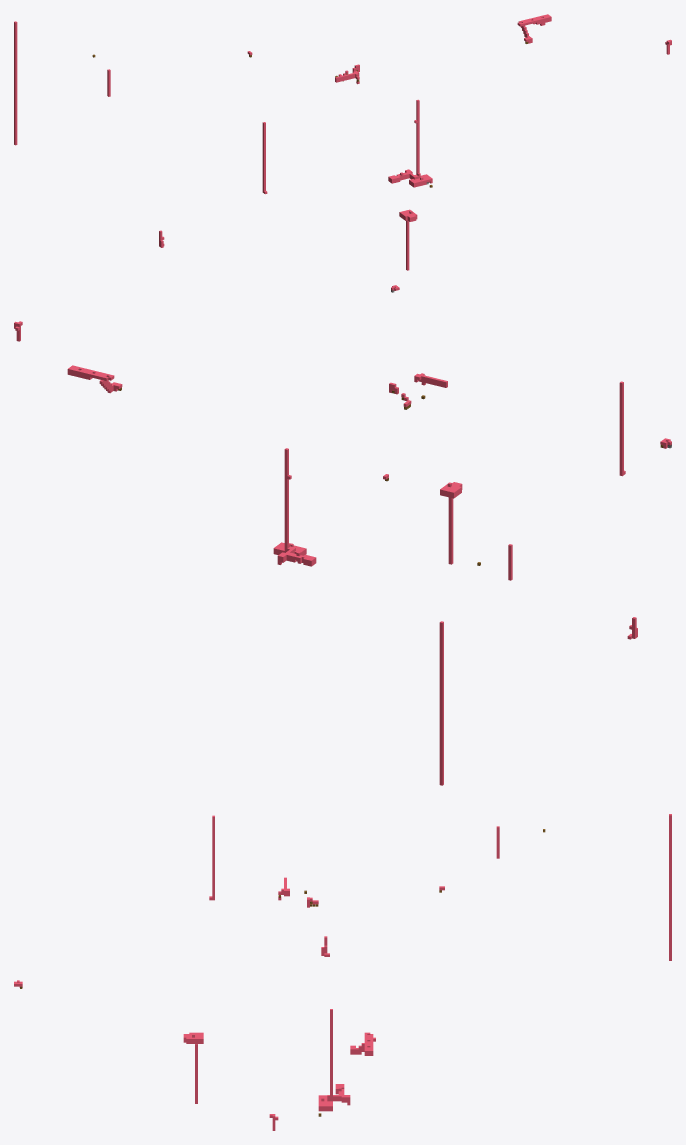
File: secrets.glb
The picture shows the model from 3 angles, top to bottom: view 1: azimuth 30°, elevation 25°; view 2: azimuth 150°, elevation 25°; view 3: azimuth 270°, elevation 25°; orthographic projection. The views are drawn at different scales.
Parts seen in each view (by area): view 1: DoctorCity; view 2: DoctorCity; view 3: DoctorCity.
Part boxes in pixels (bbox=[...]): DoctorCity: bbox=[14, 14, 671, 292]; DoctorCity: bbox=[14, 321, 671, 785]; DoctorCity: bbox=[14, 814, 671, 1130].
Bounding box in the file's own units: 234 × 80 × 229.
7 materials, 7 textured.
